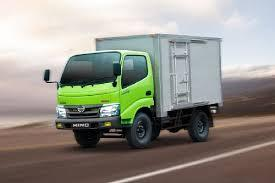truck: (42, 42, 165, 152)
